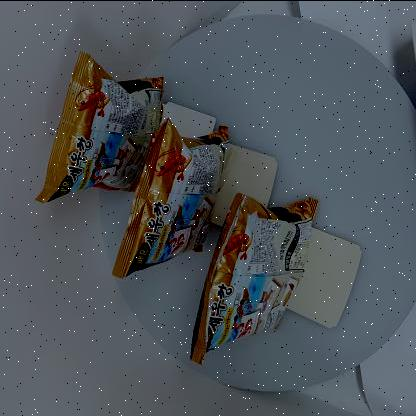Others: (31, 46, 322, 366)
